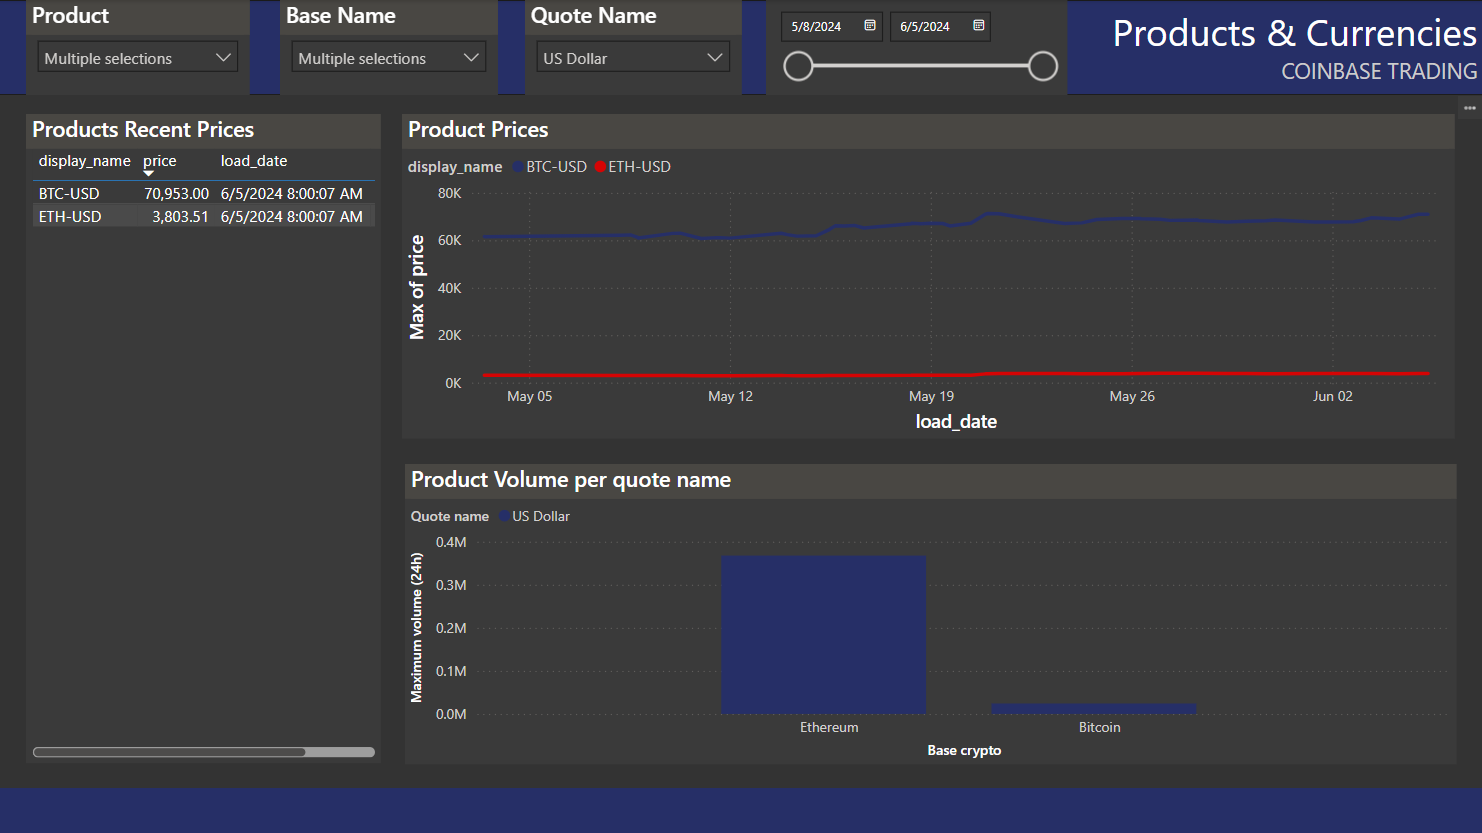

Layout of this report page (visuals, bound fields, positions):
{"tool":"powerbi","page":{"name":"Products & Currencies","canvas":[1280,720],"ordinal":0},"visuals":[{"type":"group","id":"g1","title":"Bars","box":[0,0,1280,720],"z":0},{"type":"shape","title":"Top bar","box":[0,0,1280,81.7],"z":0,"group":"g1"},{"type":"textbox","title":"Title","box":[671.7,0,608.3,81.7],"z":1000},{"type":"shape","title":"Bottom bar","box":[0,680,1280,40],"z":1000,"group":"g1"},{"type":"tableEx","title":"Products Recent Prices","fields":{"Values":["powerbi Currencies.display_name","powerbi Currencies.price","powerbi Currencies.load_date.Variation.Date Hierarchy.Year","powerbi Currencies.Time"]},"box":[22.9,98.6,305.7,560],"z":2000},{"type":"lineChart","title":"Product Prices","fields":{"Y":["Max(powerbi Currencies.price)"],"Series":["powerbi Currencies.display_name"],"Category":["powerbi Currencies.Time Hierarchy.load_date","powerbi Currencies.Time Hierarchy.Time"]},"box":[348,98,908,280],"z":3000},{"type":"clusteredColumnChart","title":"Product Volume per quote name","fields":{"Y":["Max(powerbi Currencies.volume_24h)"],"Category":["powerbi Currencies.base_name"],"Series":["powerbi Currencies.quote_name"]},"box":[350,400,907.1,258.6],"z":4000},{"type":"slicer","title":"Date","fields":{"Values":["Dates.Date"]},"box":[661.7,0,260.4,81.8],"z":5000},{"type":"slicer","title":"Quote Name","fields":{"Values":["powerbi Currencies.quote_name"]},"box":[453.3,0,186.7,81.7],"z":6000},{"type":"slicer","title":"Base Name","fields":{"Values":["powerbi Currencies.base_name"]},"box":[242.2,0,187.8,82.2],"z":7000},{"type":"slicer","title":"Product","fields":{"Values":["powerbi Currencies.product_id"]},"box":[23.3,0,193.3,81.7],"z":8000}]}

Visuals, with their boxes in screenshot pixels (x1, y1, x2, y2), scaled from the page's 1280x720 canvas onto the 1482x833 screenshot:
"Bars" group: pyautogui.locateOnScreen(0, 0, 1481, 832)
"Top bar" shape: pyautogui.locateOnScreen(0, 0, 1481, 95)
"Title" textbox: pyautogui.locateOnScreen(778, 0, 1481, 95)
"Bottom bar" shape: pyautogui.locateOnScreen(0, 787, 1481, 832)
"Products Recent Prices" tableEx: pyautogui.locateOnScreen(27, 114, 380, 762)
"Product Prices" lineChart: pyautogui.locateOnScreen(403, 113, 1454, 437)
"Product Volume per quote name" clusteredColumnChart: pyautogui.locateOnScreen(405, 463, 1455, 762)
"Date" slicer: pyautogui.locateOnScreen(766, 0, 1068, 95)
"Quote Name" slicer: pyautogui.locateOnScreen(525, 0, 741, 95)
"Base Name" slicer: pyautogui.locateOnScreen(280, 0, 498, 95)
"Product" slicer: pyautogui.locateOnScreen(27, 0, 251, 95)
